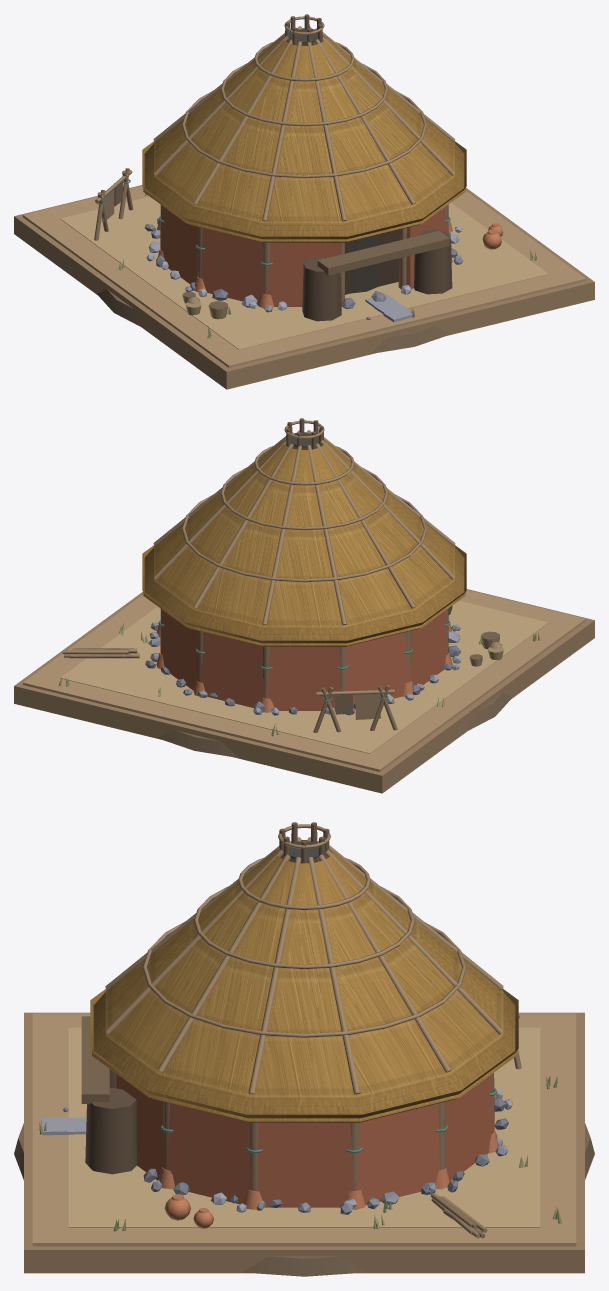
The model's file is num-s-built.glb.
3 renders of one model, top to bottom at view 1: azimuth 30°, elevation 25°; view 2: azimuth 150°, elevation 25°; view 3: azimuth 270°, elevation 25°, orthographic. The views are drawn at different scales.
Parts seen in each view (by area): view 1: era1, Era1DepthKit; view 2: era1, Era1DepthKit; view 3: era1, Era1DepthKit.
Part boxes in pixels (<box>): era1: <box>14,14,594,389</box>; Era1DepthKit: <box>97,229,452,353</box>; era1: <box>14,418,594,793</box>; Era1DepthKit: <box>157,606,511,757</box>; era1: <box>24,822,584,1273</box>; Era1DepthKit: <box>14,1016,594,1276</box>.
Size of the model in its own units: 20.19 by 12.37 by 20.19.
30 materials, 2 textured.
